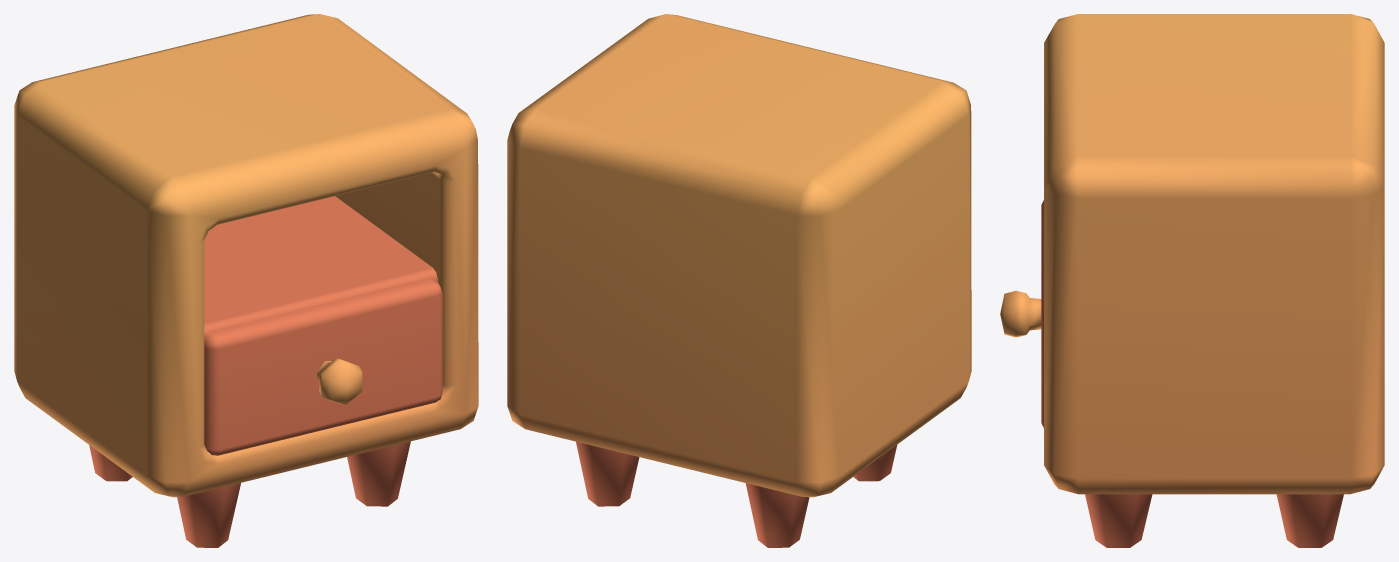
Rendered from Furniture_Cabinet_21.fbx.
3 views of the same model, side by side, from view 1: azimuth 30°, elevation 25°; view 2: azimuth 150°, elevation 25°; view 3: azimuth 270°, elevation 25° (orthographic). The views are drawn at different scales.
Parts seen in each view (by area): view 1: Furniture_Cabinet_21; view 2: Furniture_Cabinet_21; view 3: Furniture_Cabinet_21.
Part boxes in pixels (<box>): Furniture_Cabinet_21: <box>14,14,478,547</box>; Furniture_Cabinet_21: <box>507,14,971,547</box>; Furniture_Cabinet_21: <box>1000,14,1384,547</box>.
Size of the model in its own units: 123 by 141 by 118.
